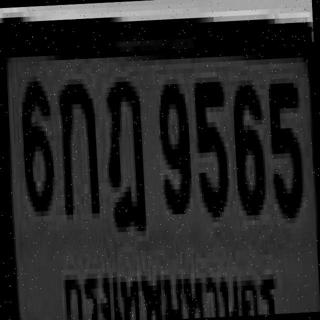A01: (56, 76, 98, 212)
A14: (102, 76, 144, 228)
N05: (192, 76, 228, 213), (266, 78, 302, 214)
N06: (18, 76, 54, 207), (230, 80, 264, 211)
N09: (156, 78, 191, 210)
P04: (56, 248, 282, 320)
